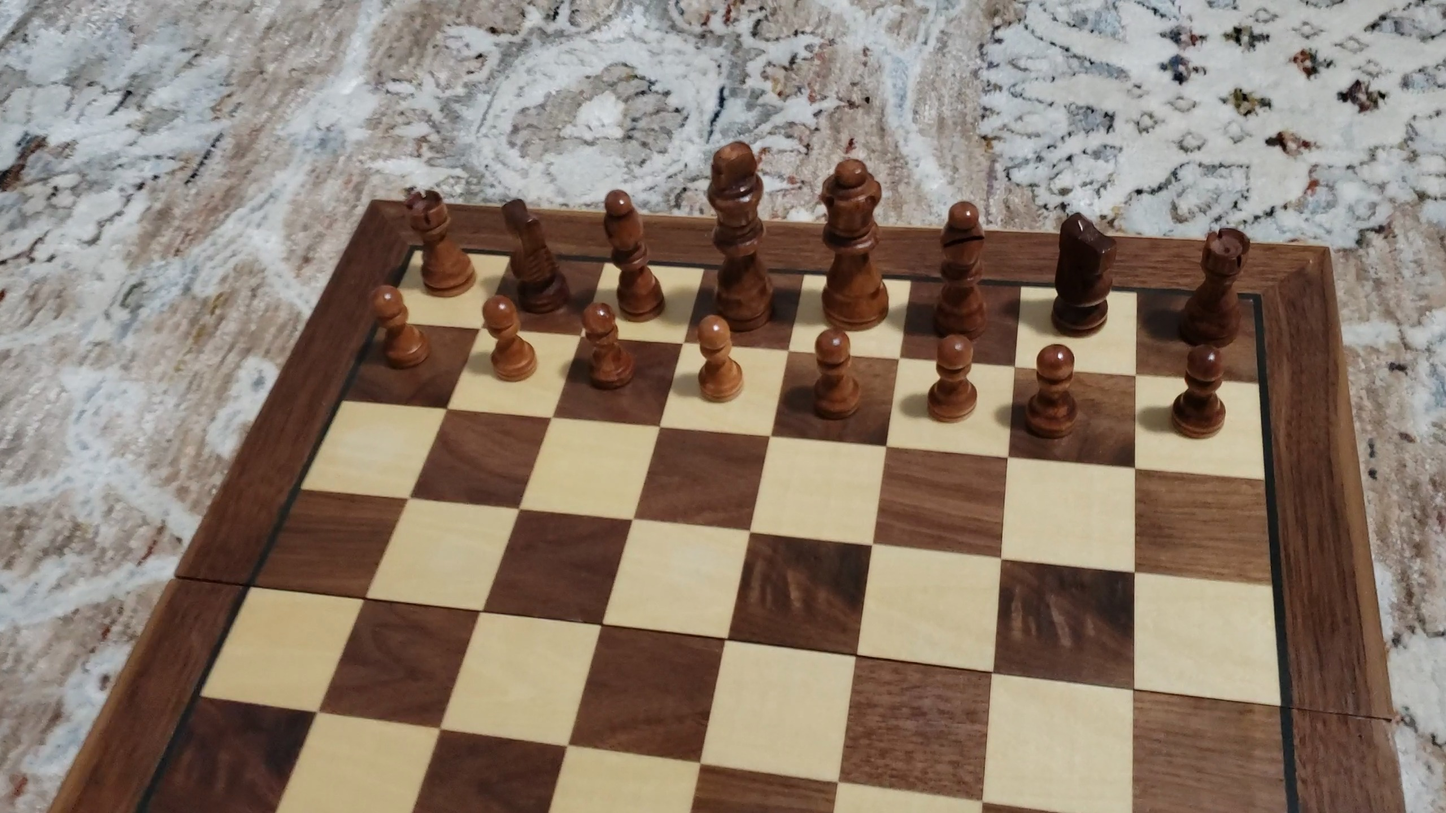black-bishop: (931, 197, 990, 339), (603, 187, 663, 320)
black-king: (700, 137, 778, 333)
black-knight: (1049, 208, 1117, 338), (499, 195, 569, 314)
black-pawn: (1168, 344, 1231, 441), (365, 282, 430, 373), (1023, 342, 1081, 442), (577, 300, 635, 393), (480, 292, 537, 383), (925, 331, 980, 425), (810, 326, 863, 423), (694, 312, 744, 405)
black-queen: (815, 154, 890, 329)
black-rook: (1175, 225, 1251, 347), (403, 185, 477, 298)
